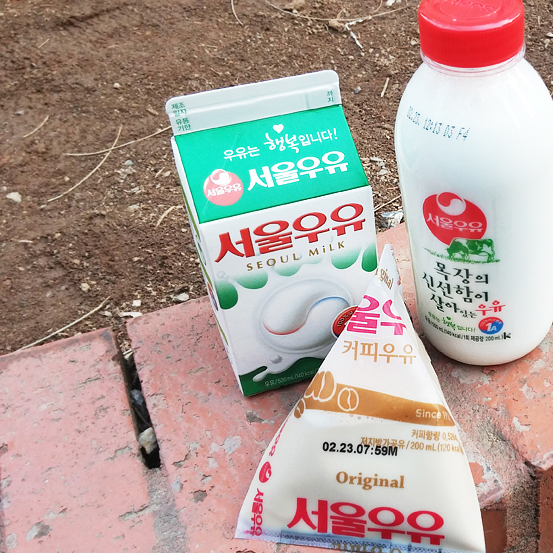milk: (235, 243, 487, 553), (160, 69, 382, 395), (393, 1, 553, 366)
